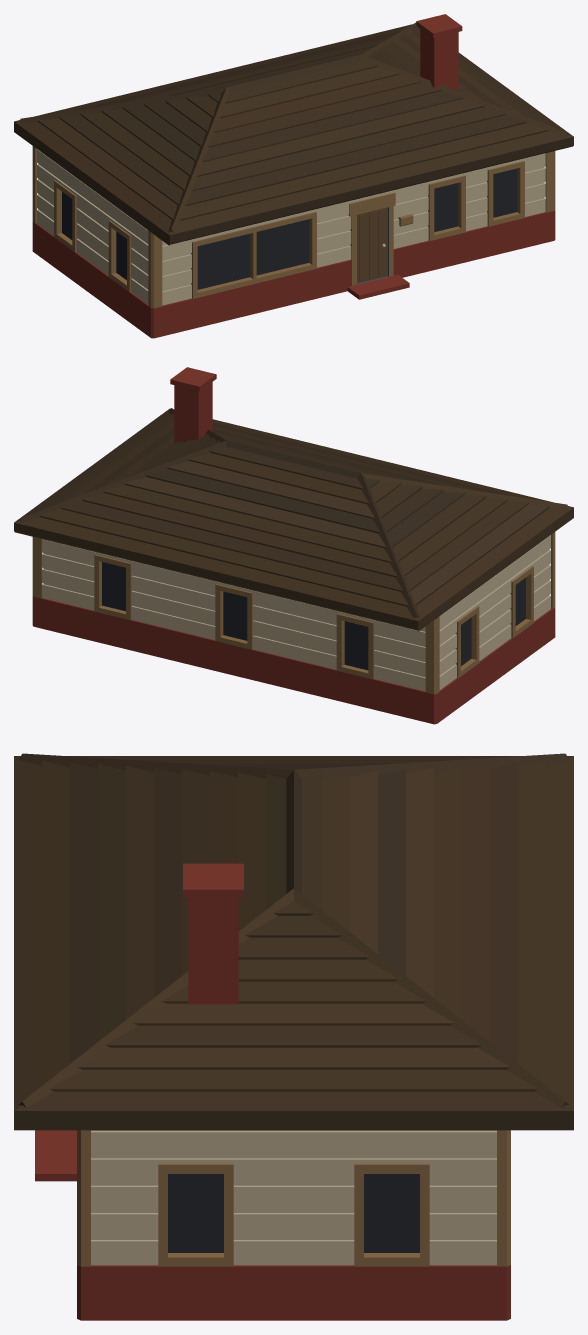
File: single-storey-ranch-house-3880ea.glb
The picture shows the model from 3 angles, top to bottom: view 1: azimuth 30°, elevation 25°; view 2: azimuth 150°, elevation 25°; view 3: azimuth 270°, elevation 25°; orthographic projection. The views are drawn at different scales.
Visible parts, largest first — view 1: single-storey-ranch-house-3880ea; view 2: single-storey-ranch-house-3880ea; view 3: single-storey-ranch-house-3880ea.
Part boxes in pixels (left/top/right/bottom): single-storey-ranch-house-3880ea: left=14, top=14, right=573, bottom=338; single-storey-ranch-house-3880ea: left=14, top=367, right=573, bottom=724; single-storey-ranch-house-3880ea: left=14, top=753, right=573, bottom=1320.
Bounding box in the file's own units: 12 × 5.9 × 8.
